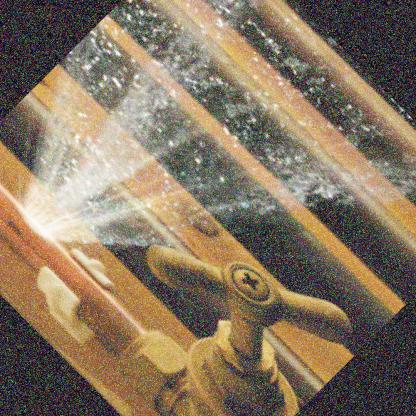burst: (21, 185, 84, 255)
